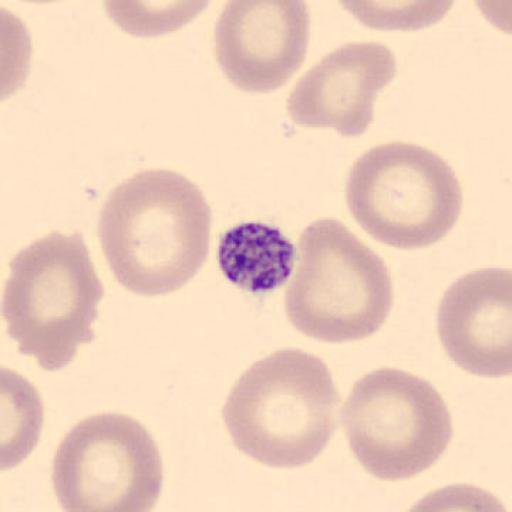Platelet: (214, 218, 301, 295)
RBC: (96, 166, 213, 300), (220, 345, 342, 472), (283, 215, 395, 346), (0, 228, 104, 367), (338, 364, 454, 484), (343, 140, 465, 252), (50, 409, 166, 512), (285, 40, 398, 139), (213, 0, 312, 96), (435, 265, 512, 380), (2, 364, 46, 472), (101, 0, 216, 39), (332, 0, 460, 34), (396, 481, 510, 512), (1, 4, 33, 104), (472, 0, 512, 37)
